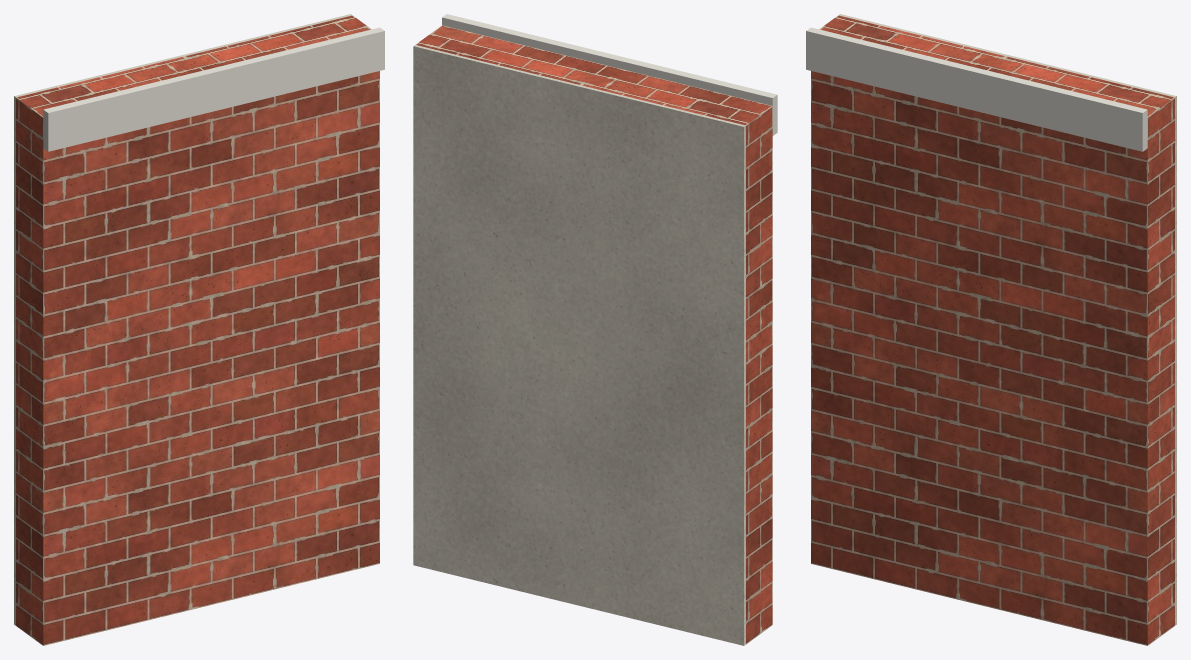
Rendered from wall_a1_plain.glb.
3 renders of one model, left to right at view 1: azimuth 30°, elevation 25°; view 2: azimuth 150°, elevation 25°; view 3: azimuth 330°, elevation 25°, orthographic.
Visible parts, largest first — view 1: wall_a1_plain_brick, wall_a1_plain_lime, wall_a1_plain_plaster; view 2: wall_a1_plain_plaster, wall_a1_plain_brick, wall_a1_plain_lime; view 3: wall_a1_plain_brick, wall_a1_plain_lime, wall_a1_plain_plaster.
Boxes of the visible parts, <box> form: wall_a1_plain_brick: <box>16,15,379,645</box>; wall_a1_plain_lime: <box>43,27,384,151</box>; wall_a1_plain_plaster: <box>14,14,352,625</box>; wall_a1_plain_plaster: <box>413,45,745,645</box>; wall_a1_plain_brick: <box>415,25,772,644</box>; wall_a1_plain_lime: <box>442,14,777,135</box>; wall_a1_plain_brick: <box>811,15,1174,645</box>; wall_a1_plain_lime: <box>806,27,1147,151</box>; wall_a1_plain_plaster: <box>838,14,1176,625</box>.
Size of the model in its own units: 2 by 3.05 by 0.35.
3 materials, 2 textured.
